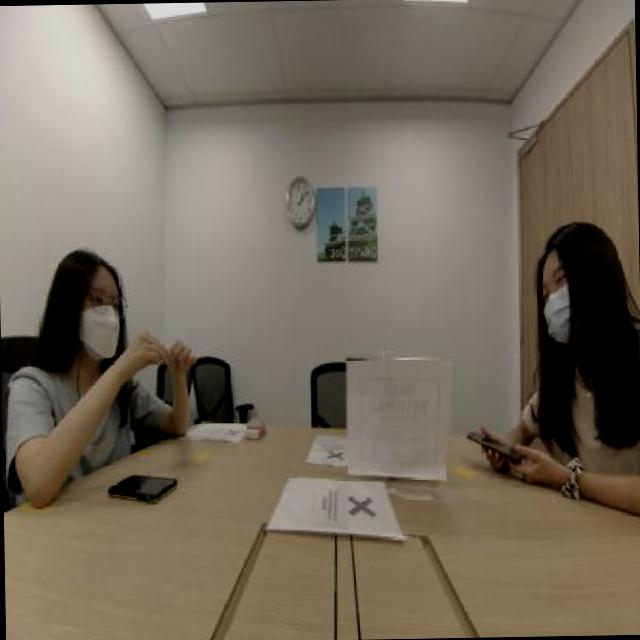Person: (0, 209, 170, 453), (524, 183, 638, 488)
